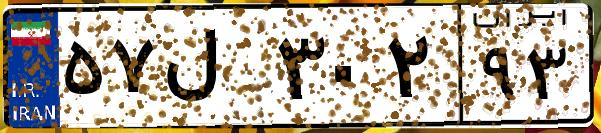0: (330, 28, 385, 110)
2: (385, 28, 445, 110)
3: (270, 28, 330, 110), (525, 38, 570, 115)
5: (57, 26, 110, 100)
7: (110, 28, 158, 98)
9: (475, 38, 525, 113)
ل: (158, 20, 270, 120)
